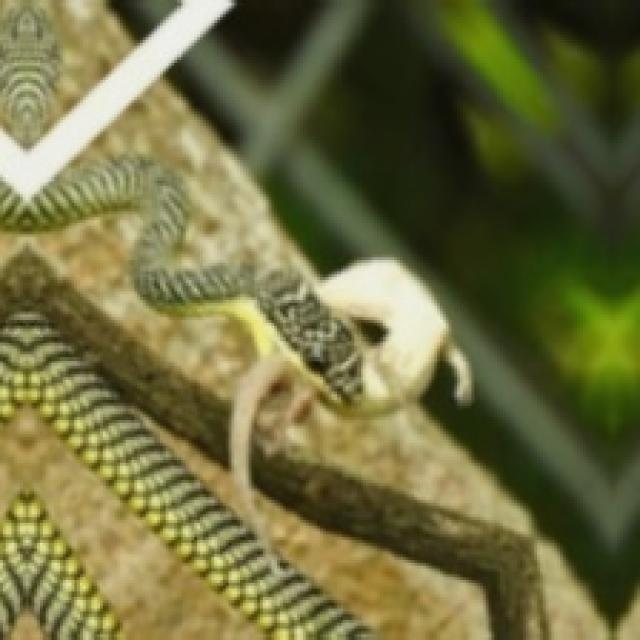paradise tree snake: (1, 310, 375, 640), (0, 155, 364, 403), (0, 494, 119, 640)
